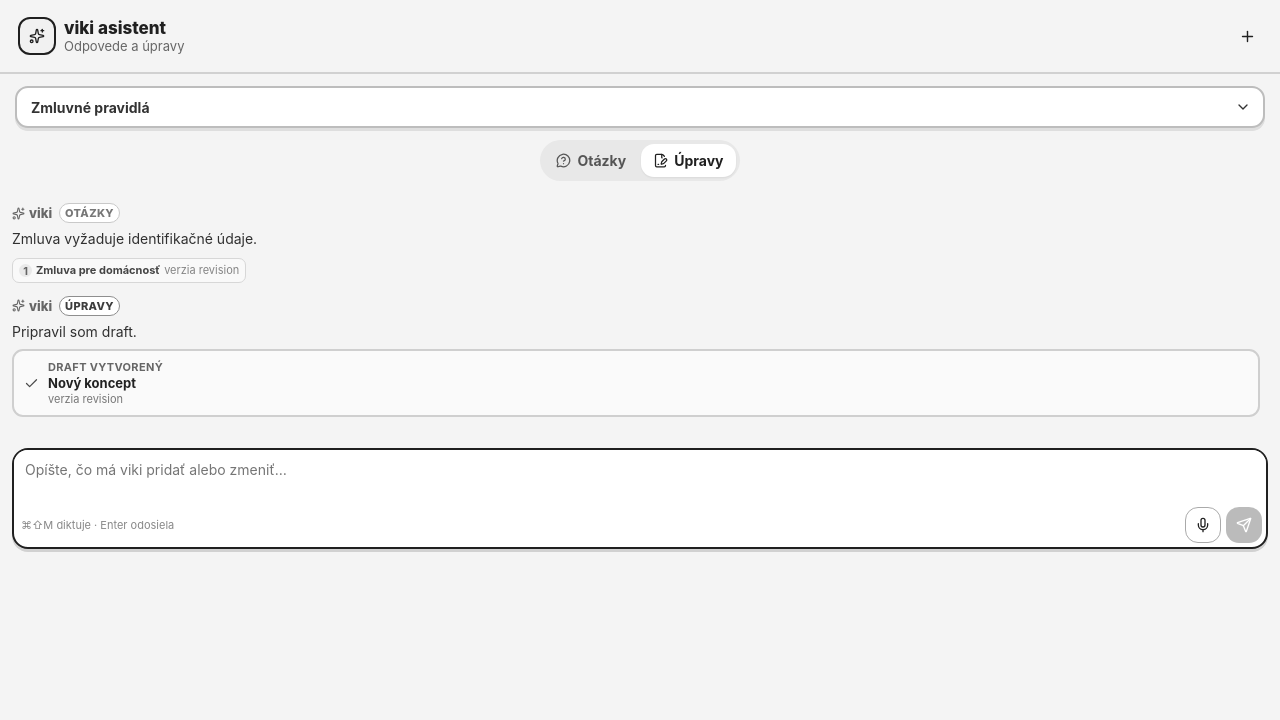
Test case: AssistantPanel › always includes drafts without a scope control and rejects Hermes management commands
Expected: the text "Zmluva vyžaduje identifikačné údaje." is shown, [12,230,257,247]
Click the button "Otázky": (591, 160) [544,144,638,177]
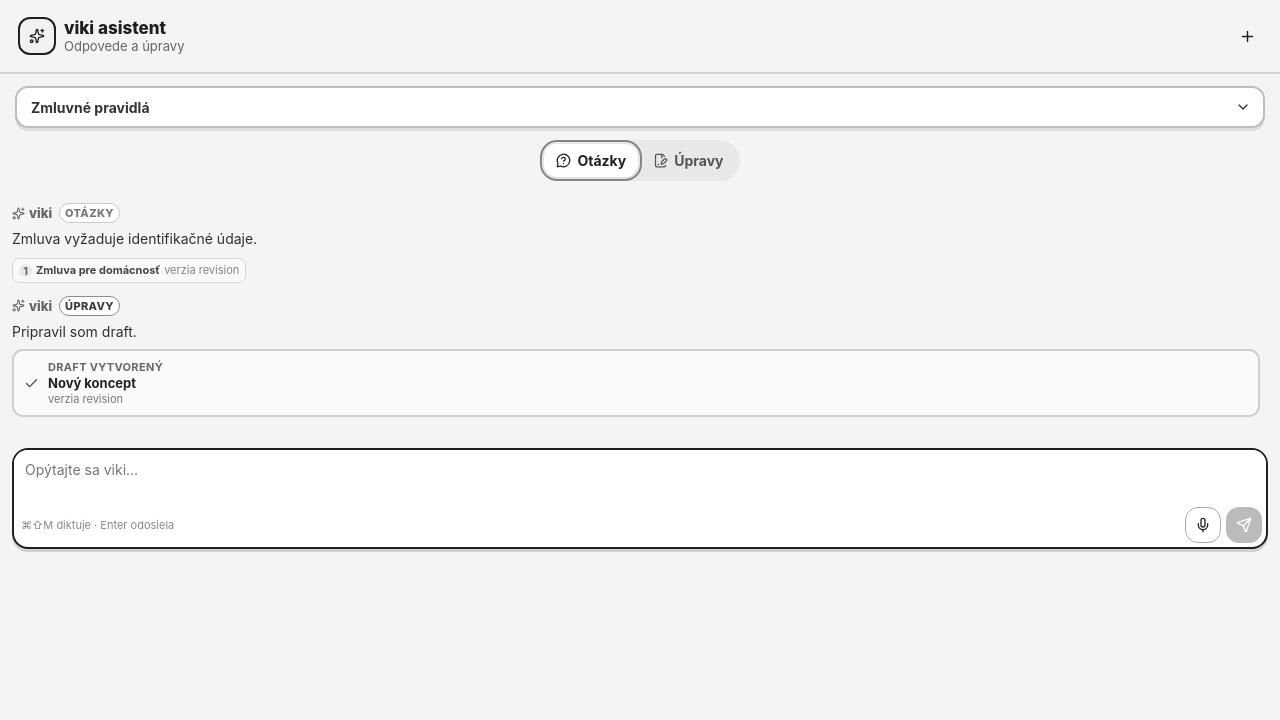
In the text box with placeholder "Opýtajte sa viki…": (640, 478) [14,450,1266,505], type "/model tajny-model"
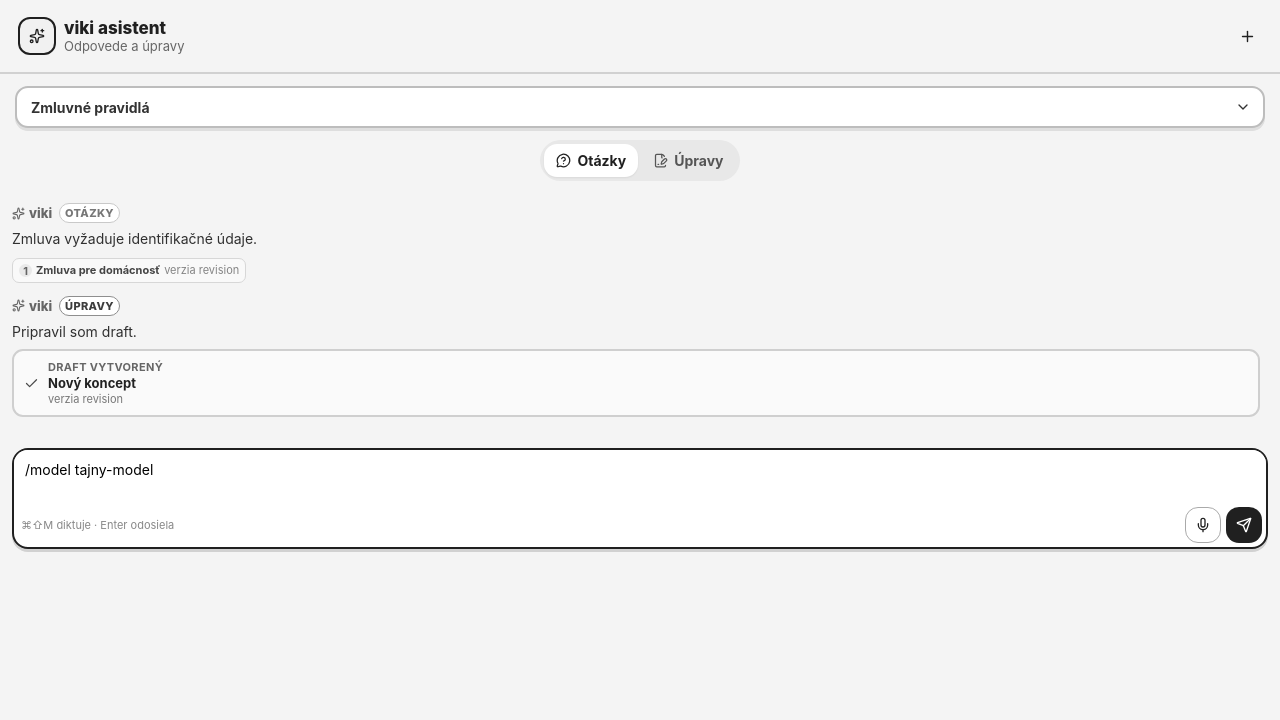
Click the button named "Odoslať": (1244, 525) [1226,507,1262,543]
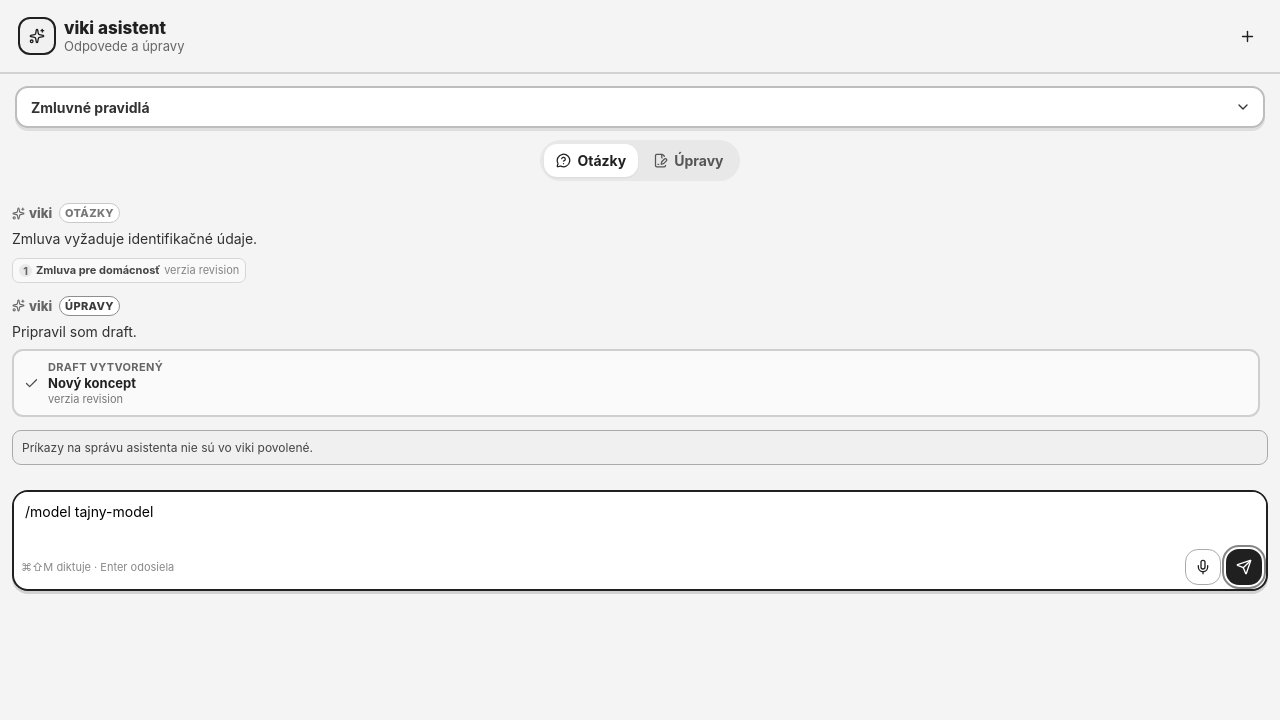
Now the message reads "Príkazy na správu asistenta nie sú vo viki povolené.", box [22,440,313,455]
